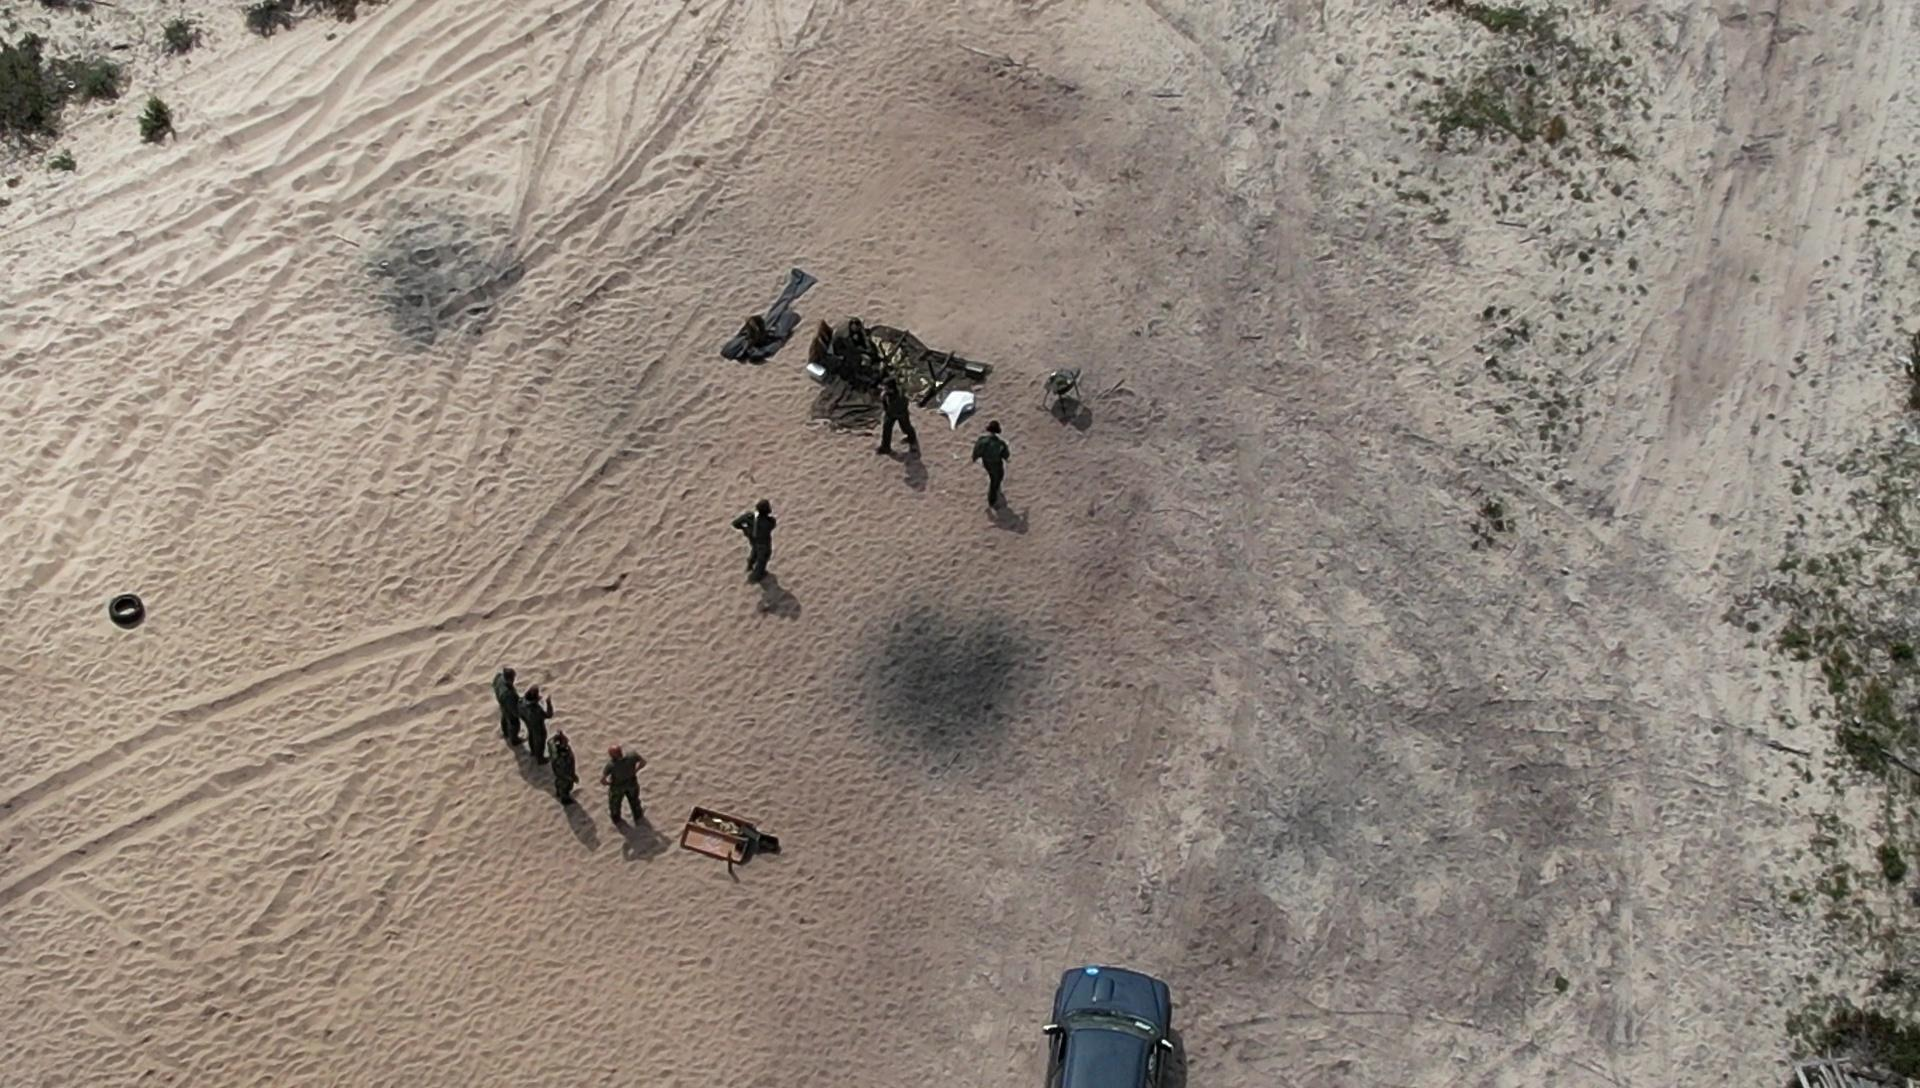Soldier: (960, 409, 1021, 520), (725, 491, 793, 589), (596, 739, 659, 840), (869, 371, 920, 476), (542, 720, 592, 819), (483, 655, 534, 750), (520, 678, 559, 775)
